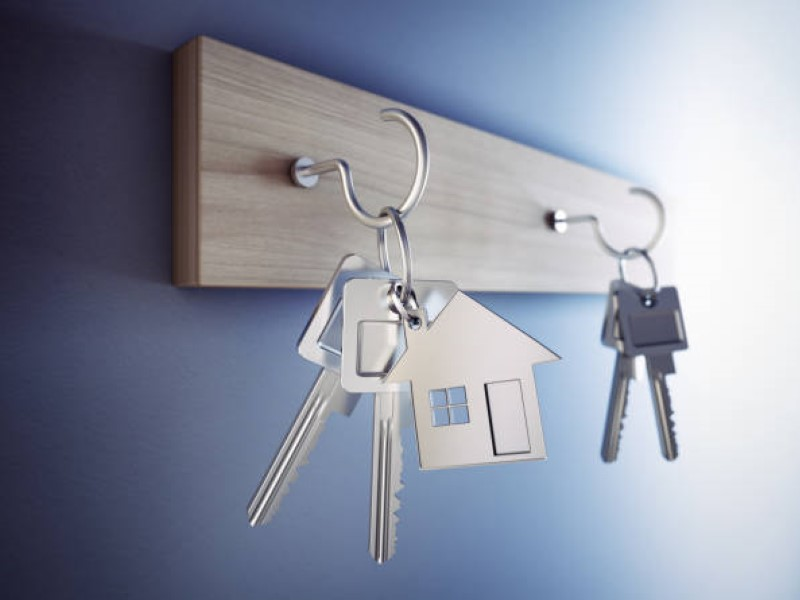key: (242, 249, 457, 570), (595, 274, 690, 465)
